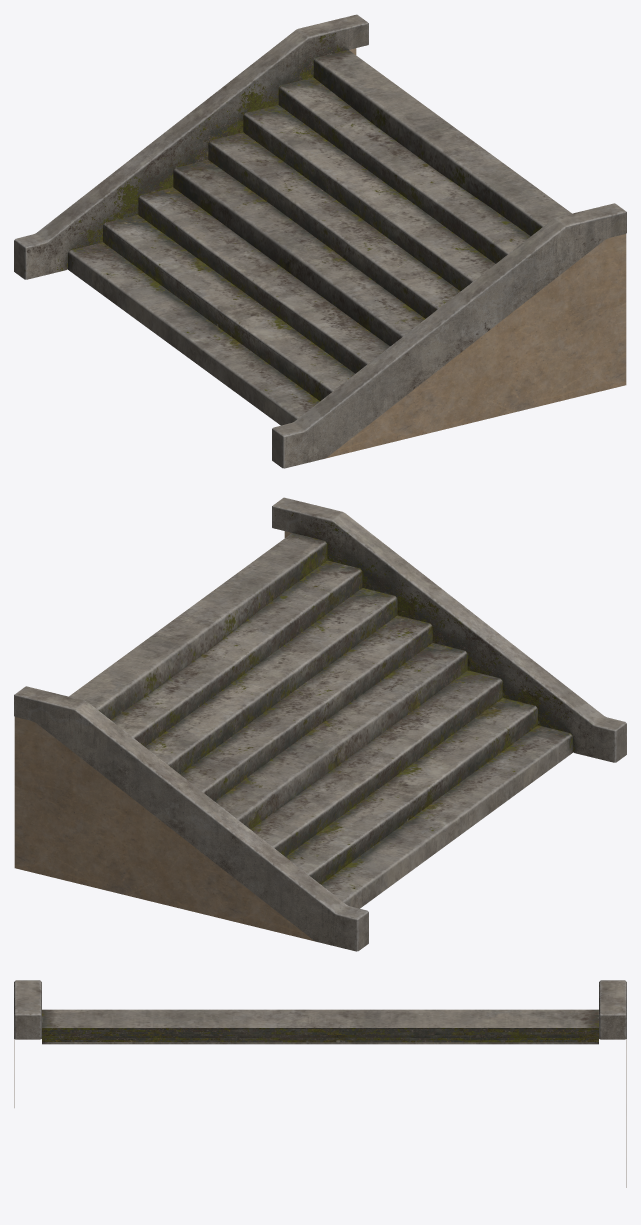
Rendered from SM_StairsA.fbx.
3 views of the same model, one above another, from view 1: azimuth 30°, elevation 25°; view 2: azimuth 150°, elevation 25°; view 3: azimuth 270°, elevation 25° (orthographic). The views are drawn at different scales.
Parts seen in each view (by area): view 1: SM_StairsA_LOD0; view 2: SM_StairsA_LOD0; view 3: SM_StairsA_LOD0.
Part boxes in pixels (x1=…): SM_StairsA_LOD0: x1=14, y1=14, x2=626, y2=468; SM_StairsA_LOD0: x1=14, y1=497, x2=626, y2=951; SM_StairsA_LOD0: x1=14, y1=980, x2=626, y2=1187.
Bounding box in the file's own units: 324 × 440 × 156.
Materials: 2 (2 with a texture image).
